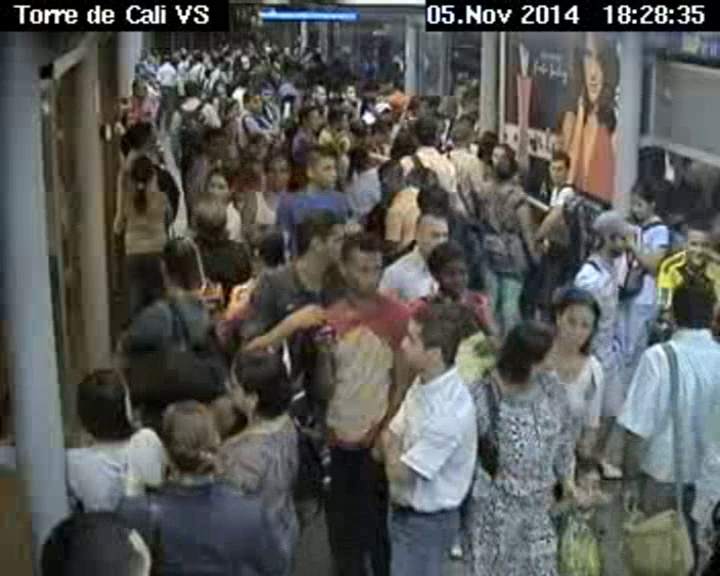person: (29, 502, 167, 576), (157, 396, 224, 490), (69, 360, 140, 437), (493, 312, 561, 392), (221, 345, 293, 420), (390, 305, 461, 372), (543, 283, 602, 363), (156, 233, 214, 295), (333, 228, 385, 296), (422, 239, 475, 305), (293, 210, 347, 272), (665, 279, 714, 340), (243, 222, 292, 276), (409, 209, 457, 259), (190, 191, 232, 241), (592, 207, 632, 256), (301, 143, 339, 191), (682, 214, 712, 272), (121, 118, 162, 158), (629, 184, 667, 225), (264, 148, 296, 190), (373, 157, 409, 194), (203, 167, 238, 201), (444, 117, 475, 151), (487, 145, 519, 177), (410, 116, 439, 150), (200, 129, 230, 161), (127, 153, 153, 189), (406, 88, 434, 117), (346, 119, 375, 146), (547, 152, 572, 181), (372, 71, 398, 97), (371, 97, 395, 125), (299, 107, 322, 130), (305, 82, 328, 105), (221, 93, 240, 118), (339, 81, 360, 103), (244, 90, 263, 111), (131, 76, 147, 100), (332, 108, 348, 131), (182, 79, 201, 95), (260, 84, 274, 99), (159, 52, 172, 65)
